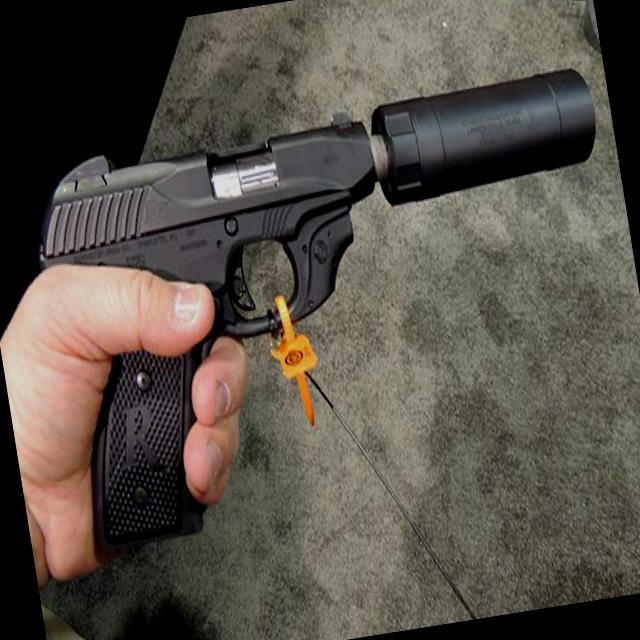handgun: (14, 106, 437, 554)
